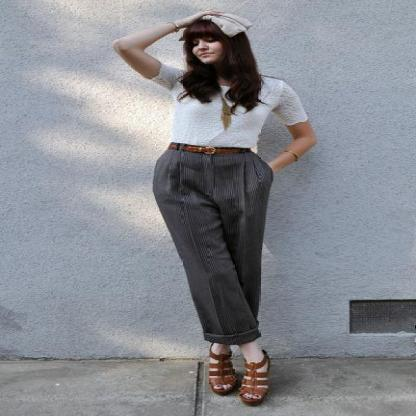pants: (153, 148, 272, 346)
shirt: (142, 66, 315, 152)
shoe: (197, 358, 270, 406)
